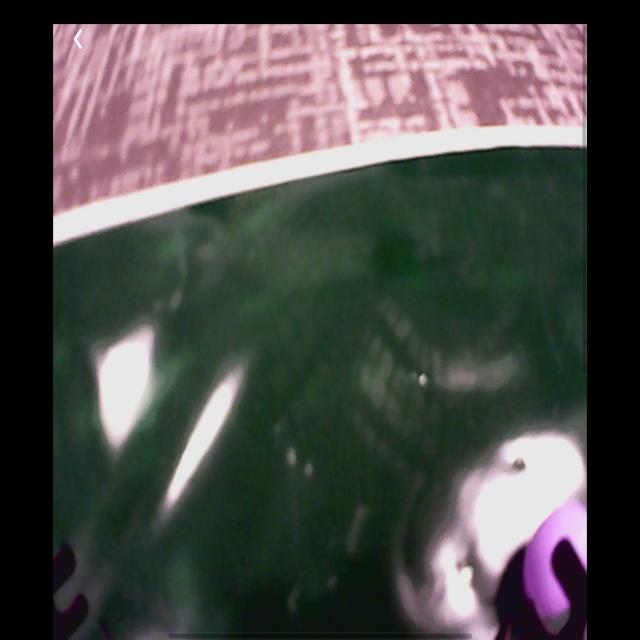ball: (529, 486, 587, 630)
